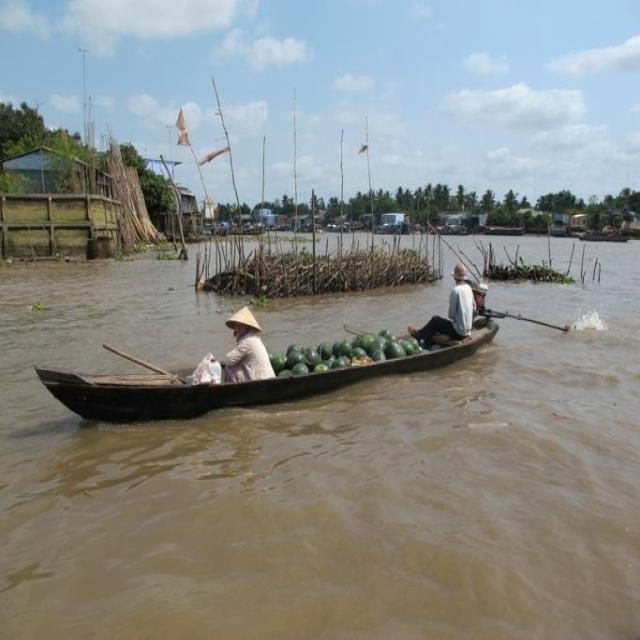boat: (31, 302, 517, 422)
